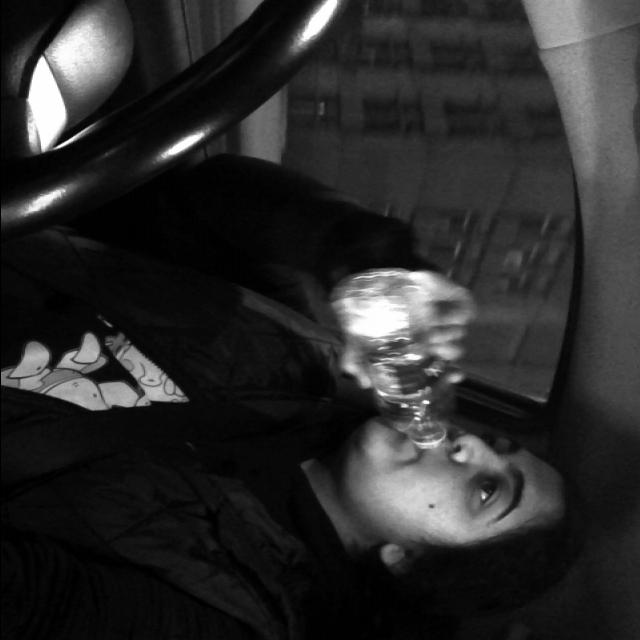drinking: (323, 261, 463, 449)
